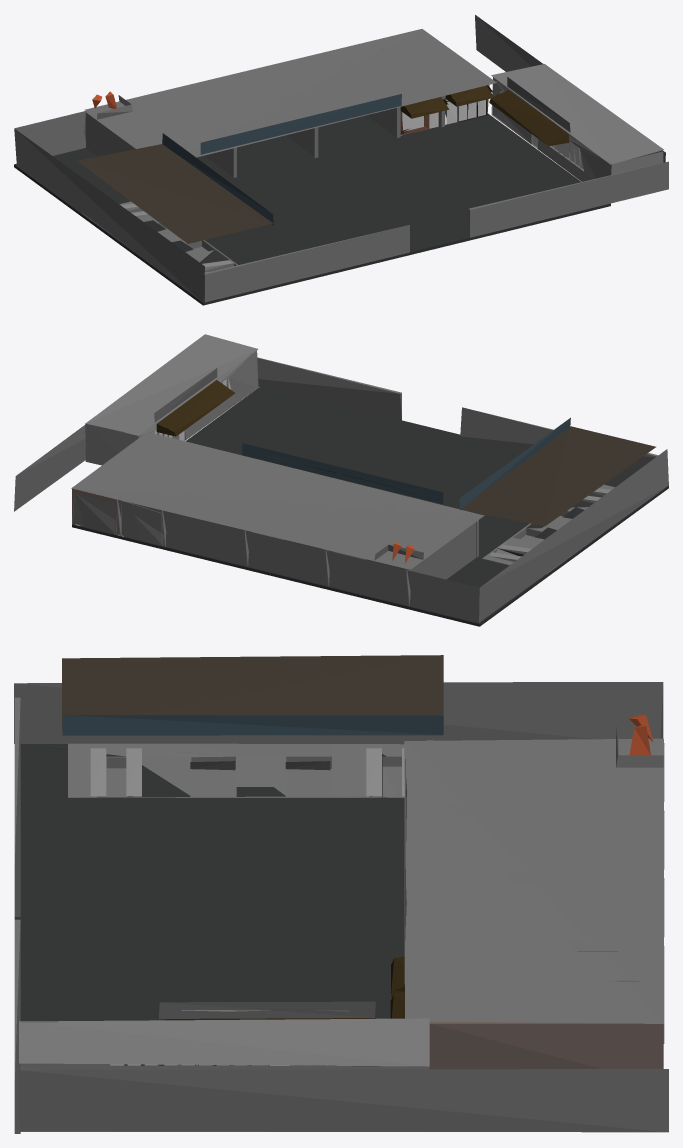
File: car-wash.lod2.glb
3 renders of one model, top to bottom at view 1: azimuth 30°, elevation 25°; view 2: azimuth 150°, elevation 25°; view 3: azimuth 270°, elevation 25°, orthographic. The views are drawn at different scales.
Parts seen in each view (by area): view 1: Cube.001_Baked_Cube.001_Baked.006_0; view 2: Cube.001_Baked_Cube.001_Baked.006_0; view 3: Cube.001_Baked_Cube.001_Baked.006_0.
Part boxes in pixels (x1,y1,x2,y2): Cube.001_Baked_Cube.001_Baked.006_0: (14, 15, 668, 305); Cube.001_Baked_Cube.001_Baked.006_0: (14, 334, 668, 626); Cube.001_Baked_Cube.001_Baked.006_0: (14, 655, 668, 1133).
Size of the model in its own units: 56 by 7.42 by 39.63.
